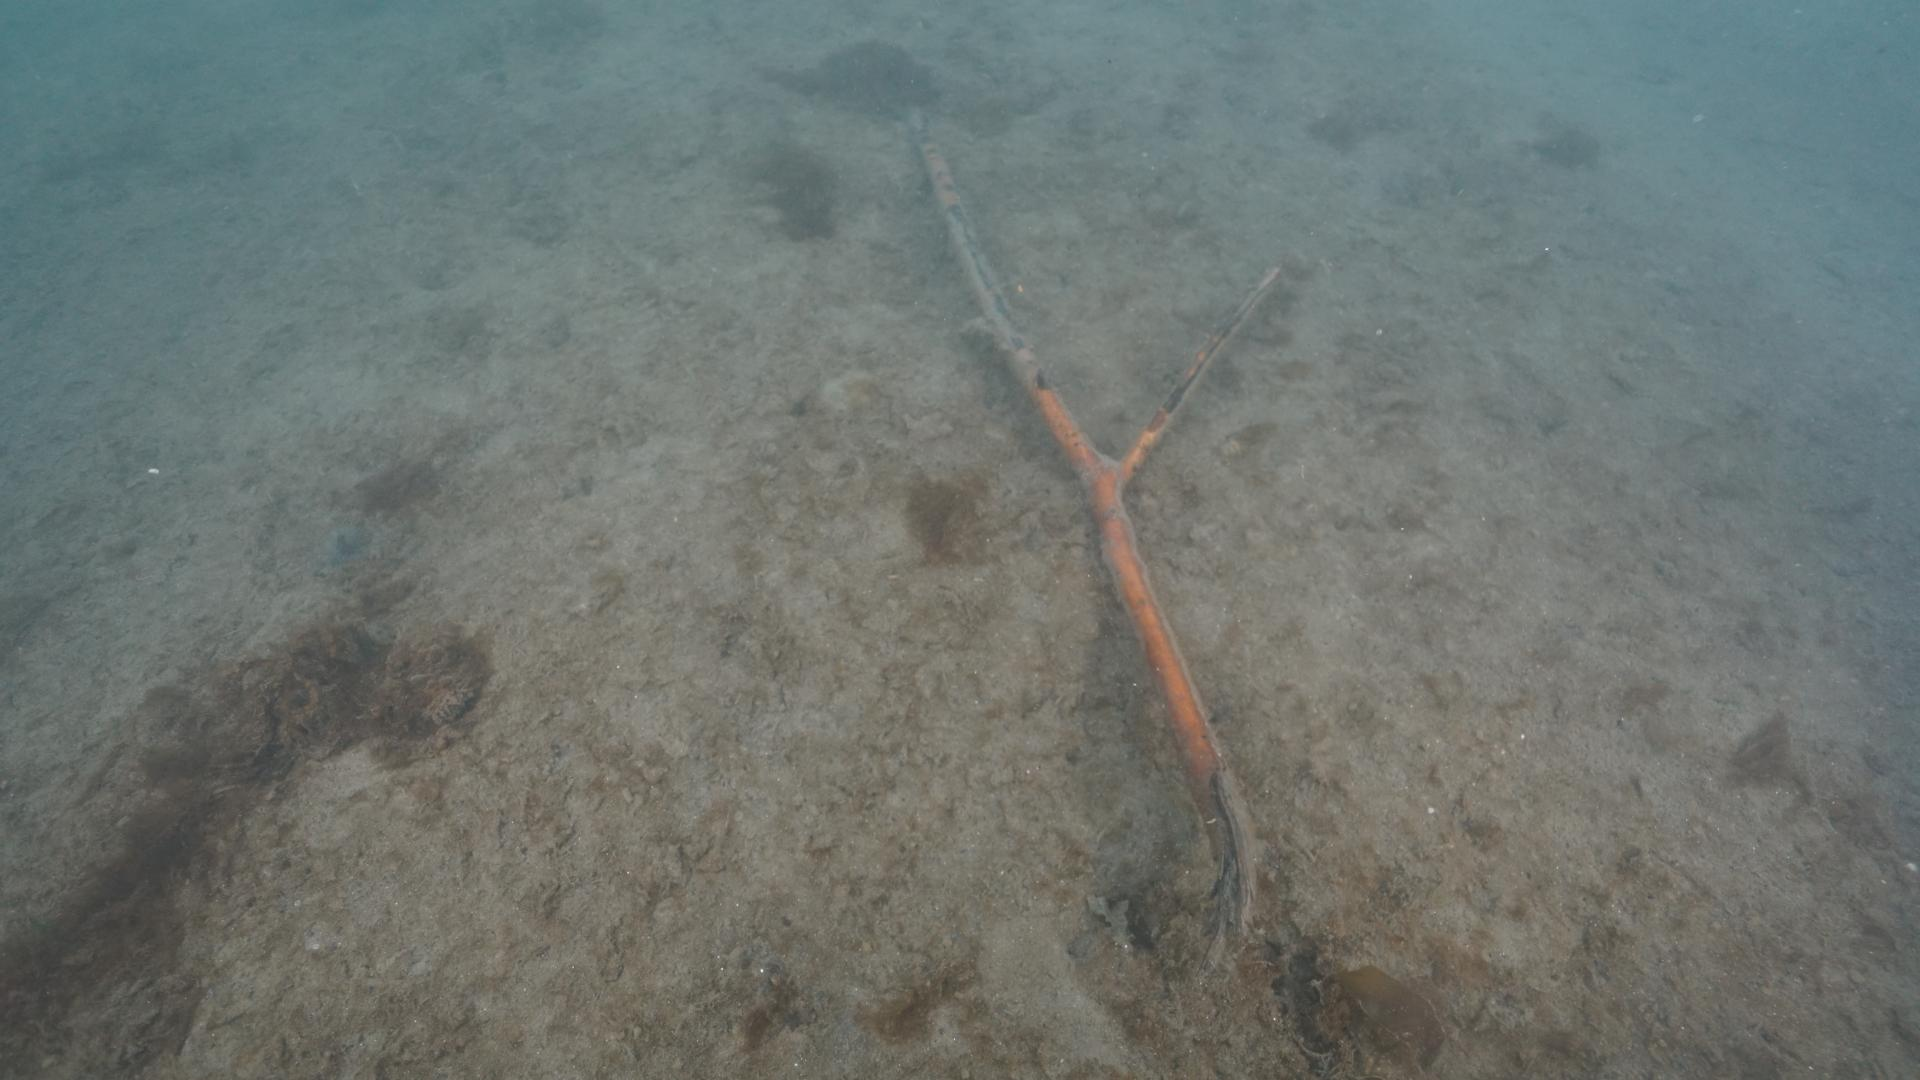wood: (910, 111, 1298, 973)
